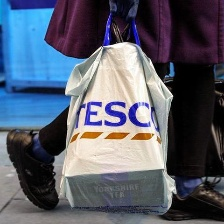plastic_bag: (54, 38, 177, 218)
